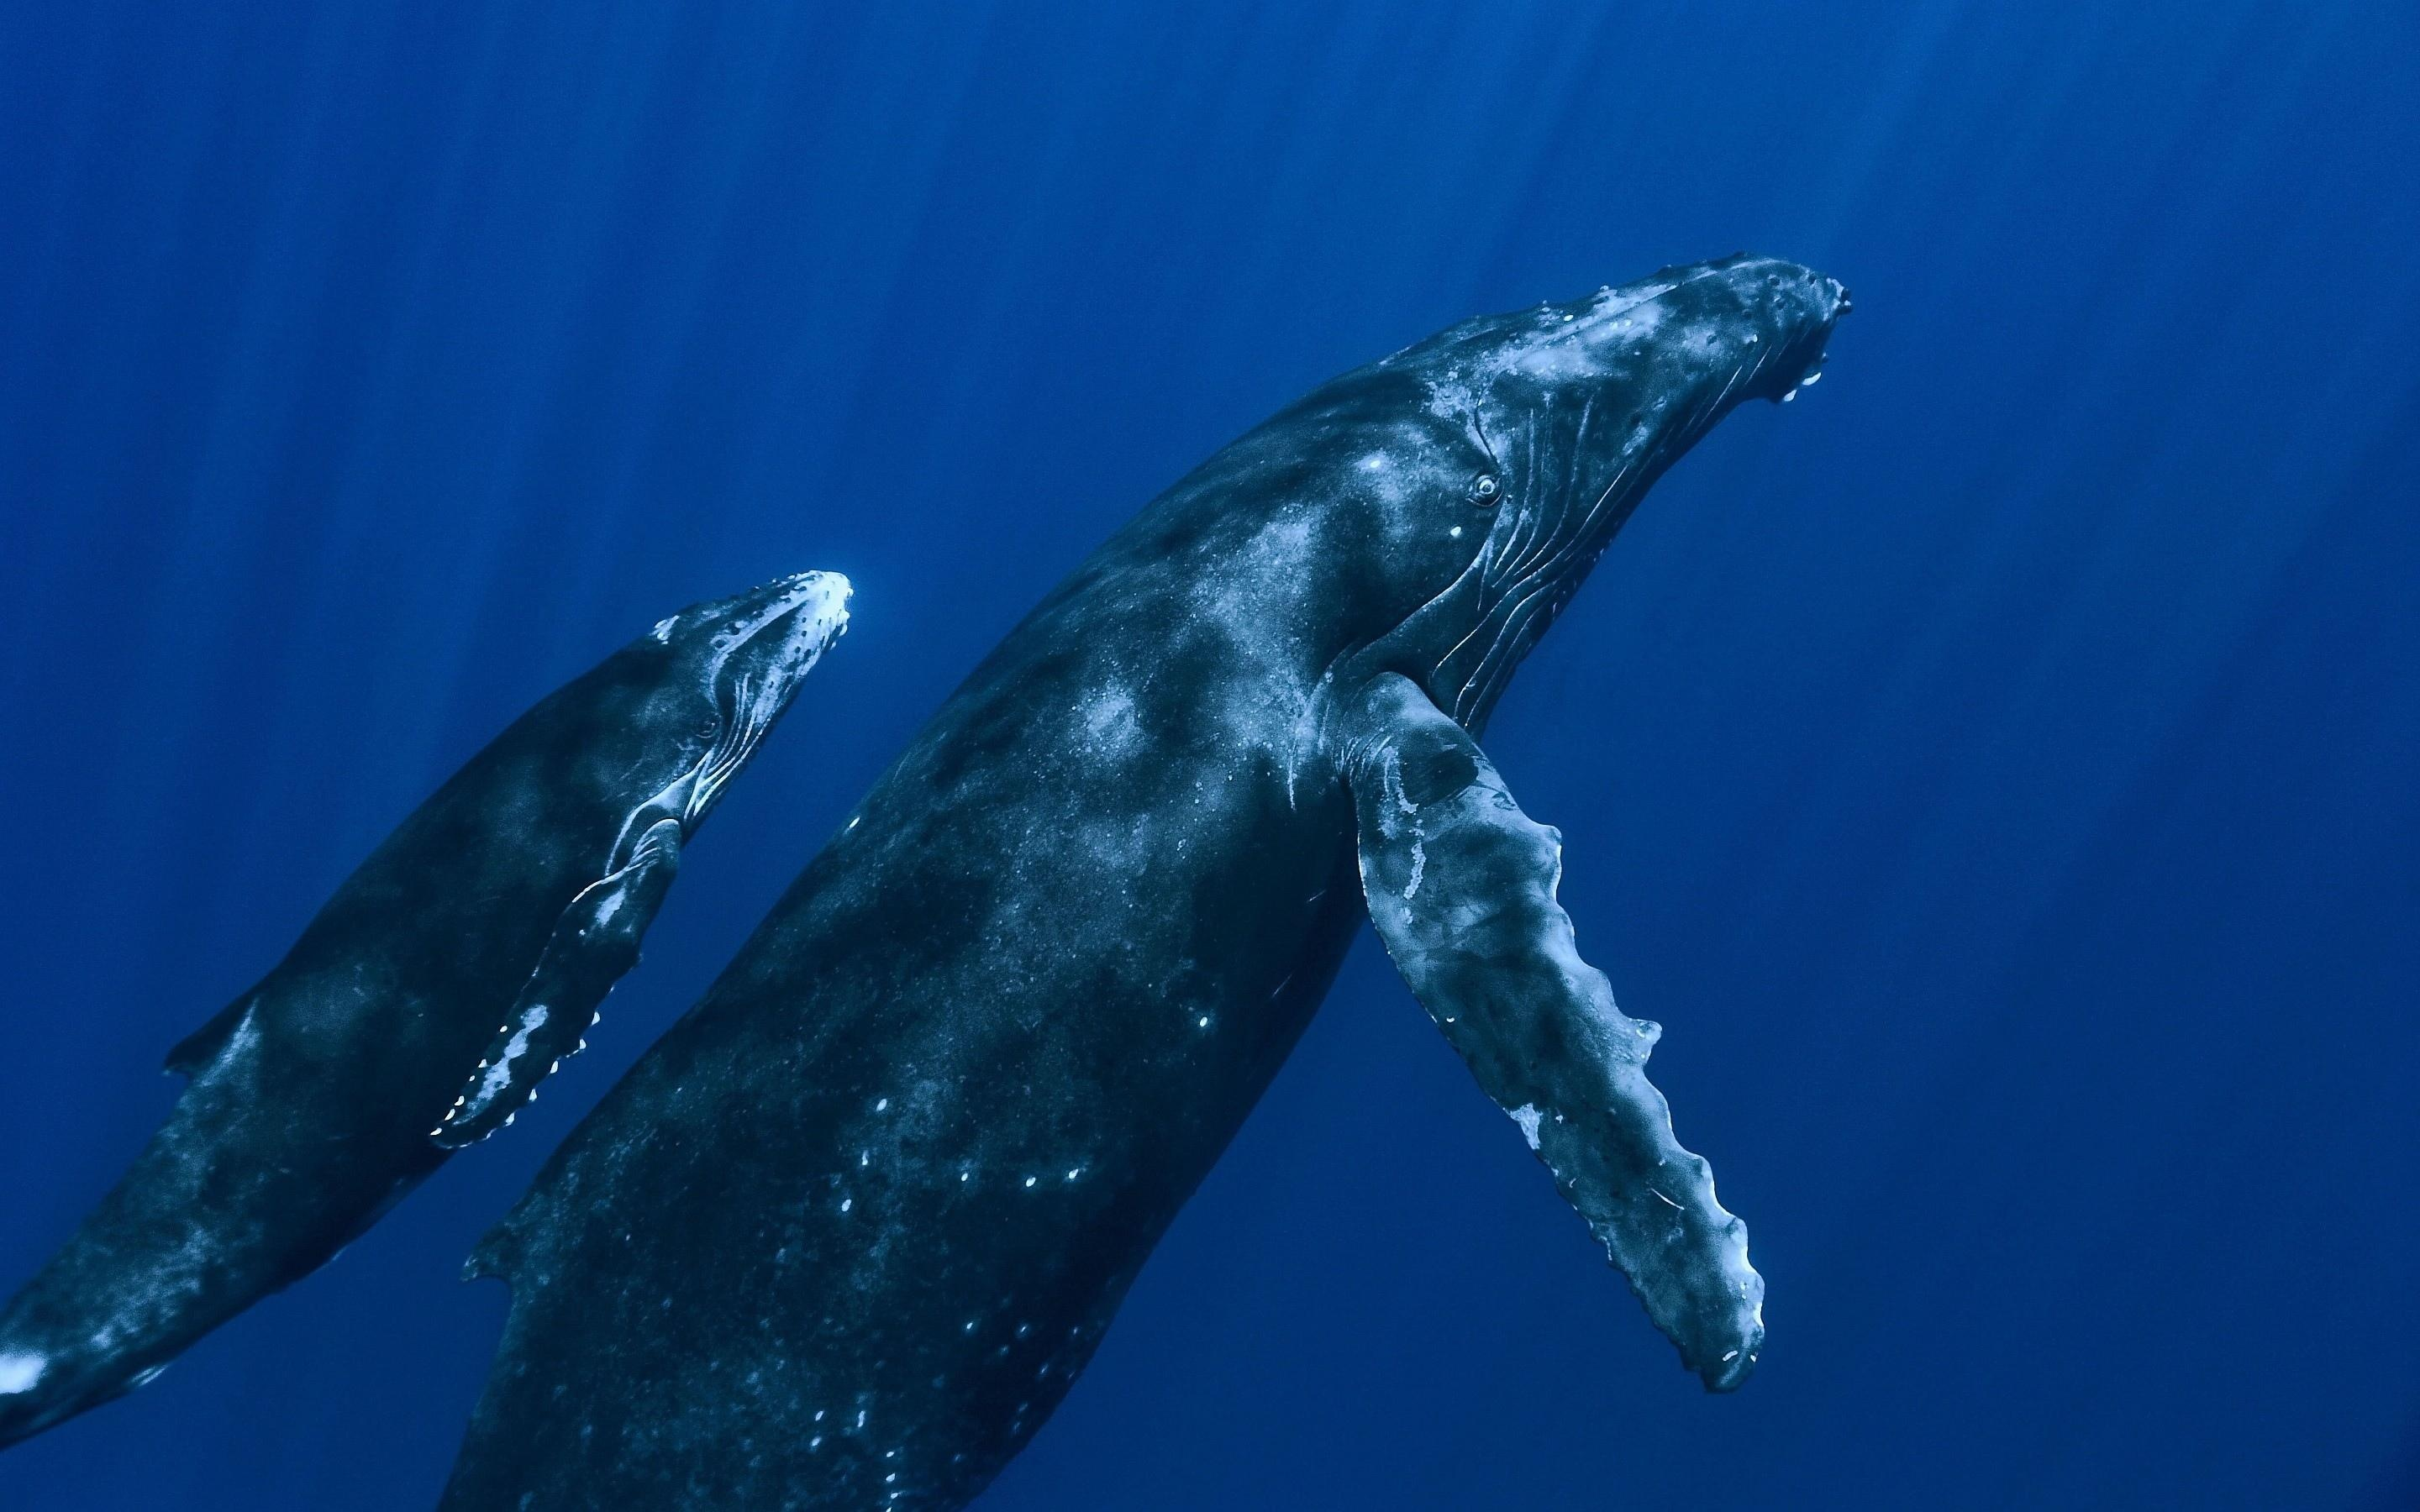fish: (429, 237, 1856, 1491), (2, 549, 857, 1441)
